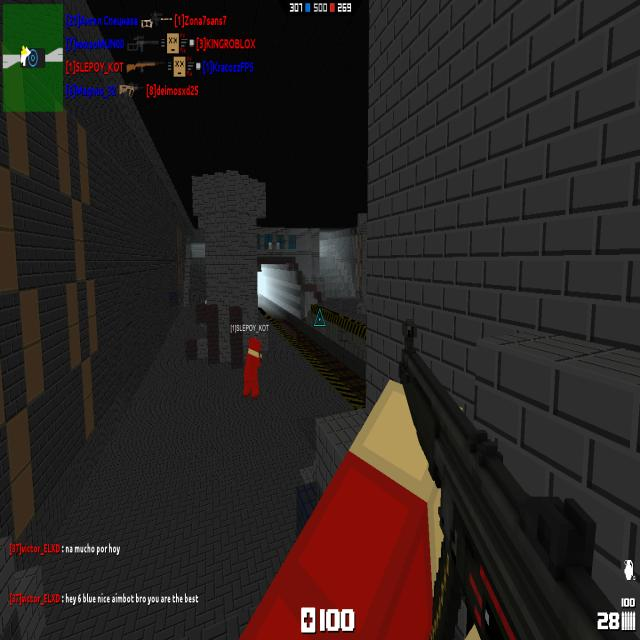enemy: (205, 298, 207, 304)
